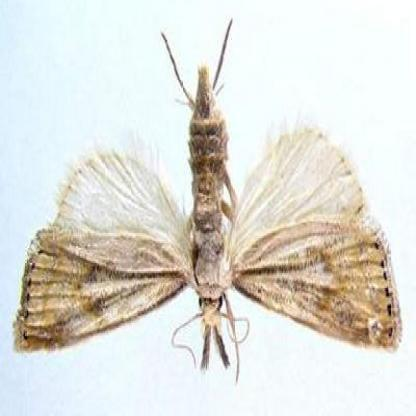stem-borer: (12, 18, 403, 380)
